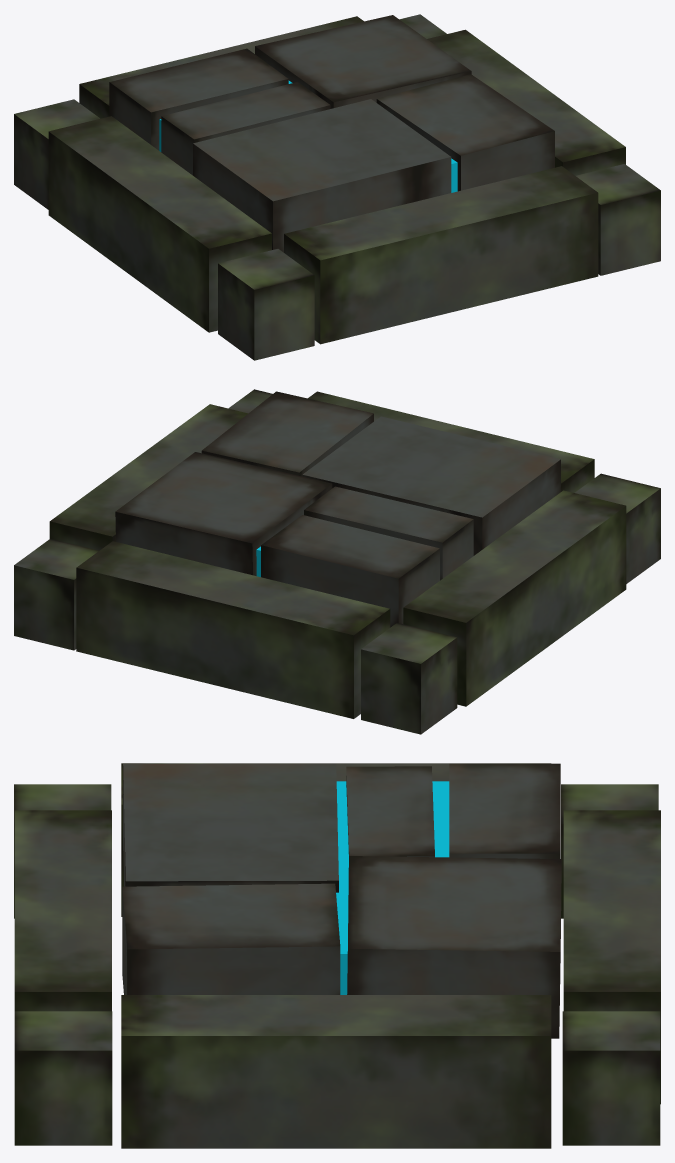
Rendered from pressure-plate.fbx.
The picture shows the model from 3 angles, top to bottom: view 1: azimuth 30°, elevation 25°; view 2: azimuth 150°, elevation 25°; view 3: azimuth 270°, elevation 25°; orthographic projection. The views are drawn at different scales.
Visible parts, largest first — view 1: pressure_plate1_brick_long_large_low25, pressure_plate1_magic_cube1; view 2: pressure_plate1_brick_long_large_low25, pressure_plate1_magic_cube1; view 3: pressure_plate1_brick_long_large_low25, pressure_plate1_magic_cube1.
Boxes of the visible parts, left/top/right/bottom form: pressure_plate1_brick_long_large_low25: left=14, top=14, right=660, bottom=360; pressure_plate1_magic_cube1: left=109, top=15, right=554, bottom=252; pressure_plate1_brick_long_large_low25: left=14, top=389, right=660, bottom=734; pressure_plate1_magic_cube1: left=115, top=391, right=560, bottom=627; pressure_plate1_brick_long_large_low25: left=14, top=763, right=660, bottom=1148; pressure_plate1_magic_cube1: left=122, top=763, right=561, bottom=1038.
Bounding box in the file's own units: 194 × 52.06 × 194.
